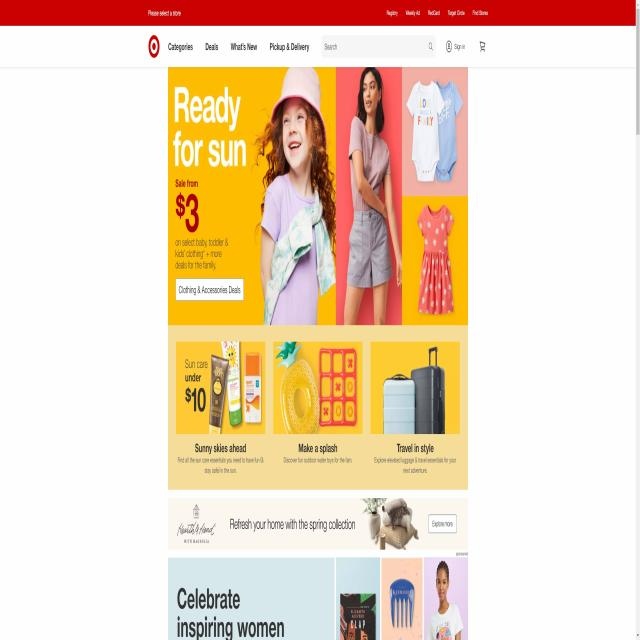menu-bar: (444, 36, 489, 61)
search: (320, 31, 437, 63)
tab-bar: (146, 31, 312, 59), (384, 5, 489, 19)
